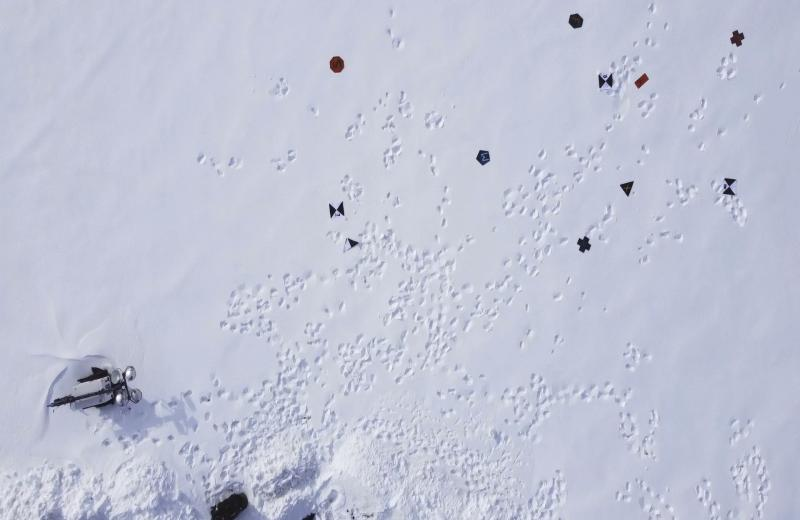Cross: (575, 234, 594, 254), (730, 28, 746, 48)
Hexagon: (567, 12, 585, 31)
Octagon: (329, 54, 346, 74)
Pentagon: (476, 149, 492, 168)
Rectangle: (633, 70, 649, 90)
Triangle: (620, 180, 636, 197)
